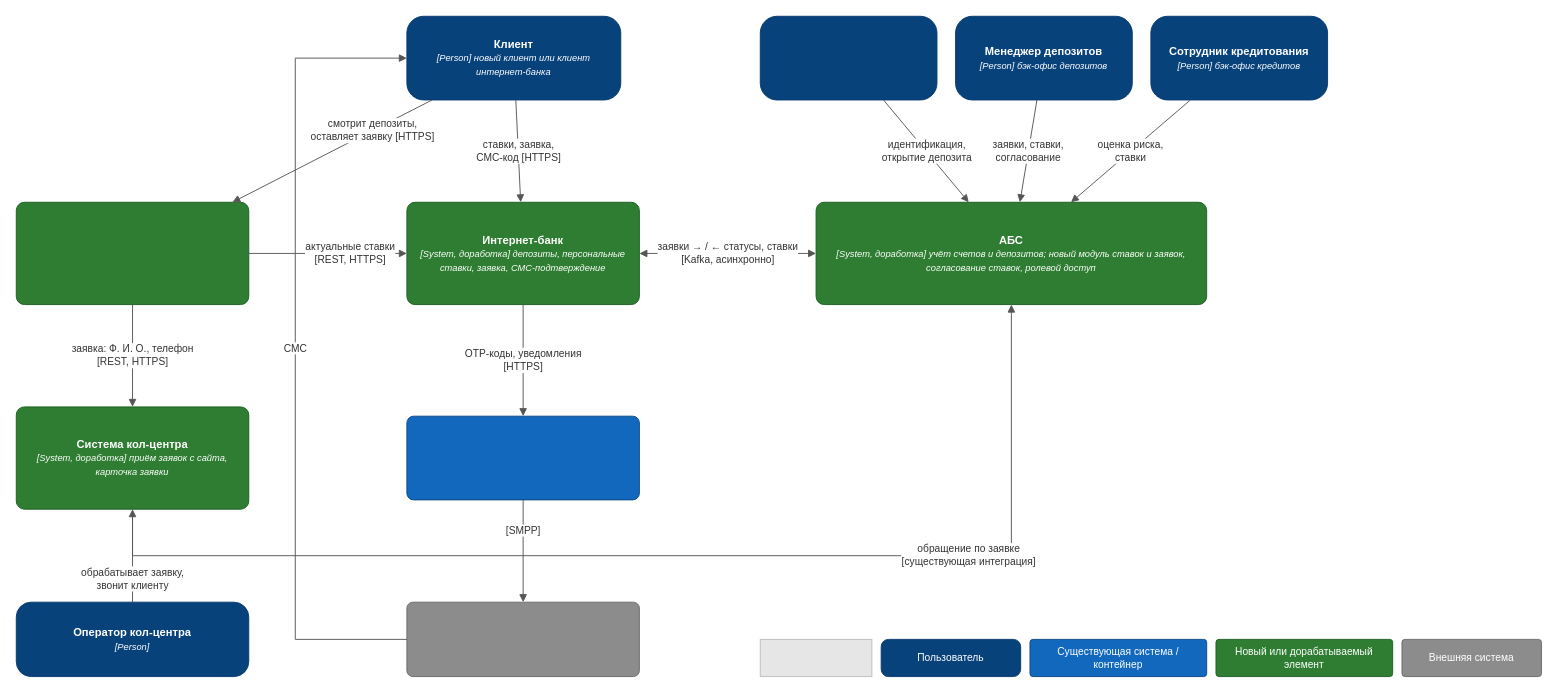
Image size: 1558x693. Some labels were removed from this diagram. Here are the shapes that lost their labels. From the top down, the centre of each, then its label:
At pixel 848 57: "Сотрудник отделения [Person] фронт-офис".
At pixel 132 253: "Сайт банка [System, доработка] витрина депозитов и форма заявки".
At pixel 522 457: "СМС-шлюз [System] шлюз телеком-оператора".
At pixel 522 639: "Телеком-оператор [External System] доставка СМС".
At pixel 815 657: "Легенда".
